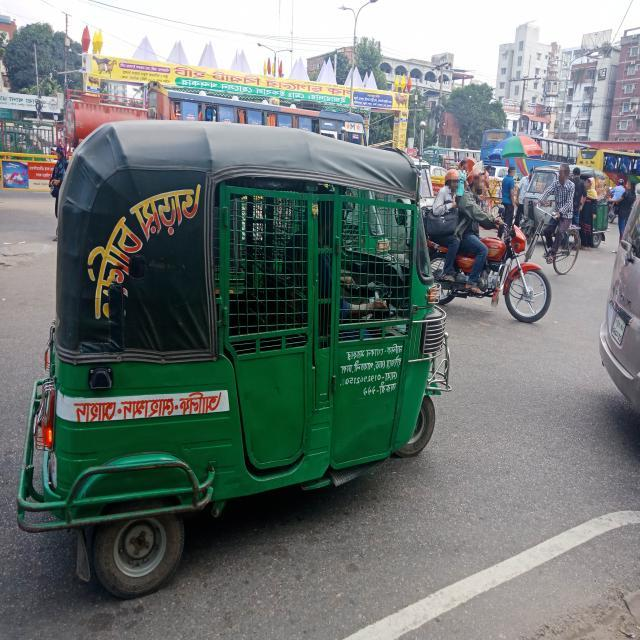CNG: (16, 116, 449, 604)
